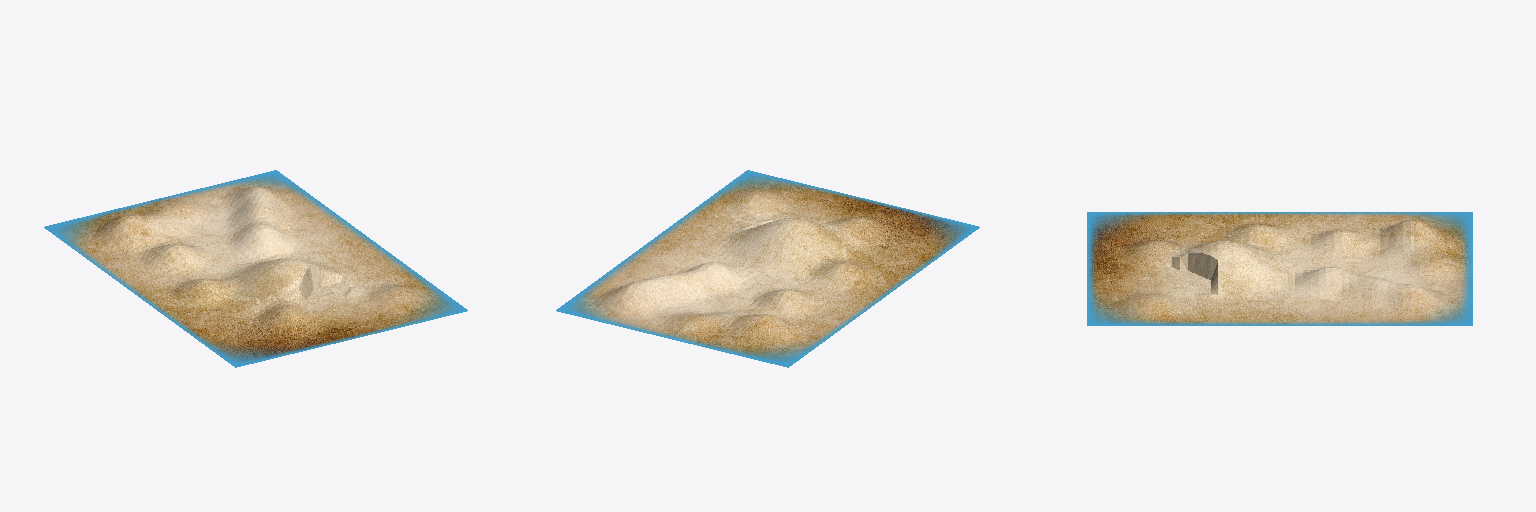
3 views of the same model, side by side, from view 1: azimuth 30°, elevation 25°; view 2: azimuth 150°, elevation 25°; view 3: azimuth 270°, elevation 25° (orthographic).
Parts seen in each view (by area): view 1: Plane001; view 2: Plane001; view 3: Plane001.
Part boxes in pixels (x1,y1,x2,y2): Plane001: (44,170,467,367); Plane001: (556,170,979,367); Plane001: (1087,212,1472,325).
Size of the model in its own units: 560 by 59.25 by 800.
Materials: 1 (1 with a texture image).